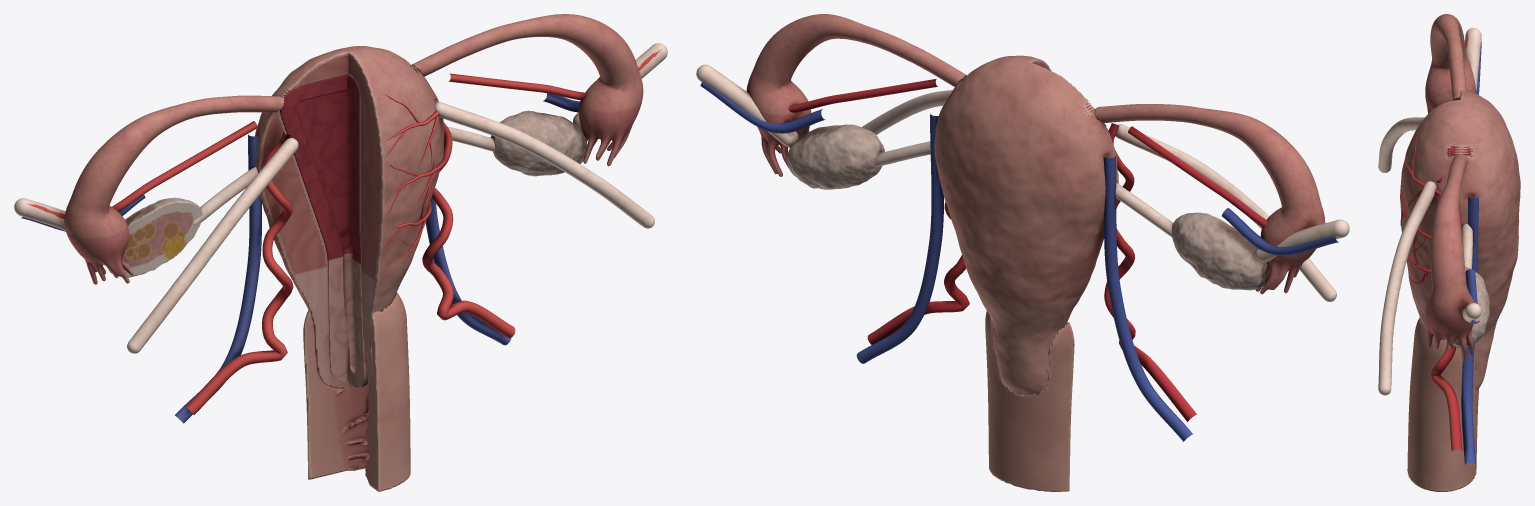
File: female-reproductive.35d5b7ac.glb
3 views of the same model, side by side, from view 1: azimuth 30°, elevation 25°; view 2: azimuth 150°, elevation 25°; view 3: azimuth 270°, elevation 25° (orthographic). The views are drawn at different scales.
Visible parts, largest first — view 1: Myometrium, Uterine tubes, Endometrium, Vagina, Uterine and ovarian arteries, Supporting ligaments, Ovaries, Uterine and ovarian veins; view 2: Myometrium, Uterine tubes, Vagina, Ovaries, Uterine and ovarian veins, Supporting ligaments, Uterine and ovarian arteries; view 3: Myometrium, Uterine tubes, Vagina, Supporting ligaments, Uterine and ovarian veins, Uterine and ovarian arteries, Ovaries, Endometrium.
Part boxes in pixels (left/top/right/bottom): Myometrium: left=254, top=46, right=444, bottom=391; Uterine tubes: left=64, top=14, right=643, bottom=284; Endometrium: left=280, top=66, right=417, bottom=388; Vagina: left=303, top=292, right=410, bottom=491; Uterine and ovarian arteries: left=27, top=49, right=661, bottom=414; Supporting ligaments: left=14, top=43, right=667, bottom=353; Ovaries: left=109, top=110, right=587, bottom=277; Uterine and ovarian veins: left=21, top=93, right=580, bottom=423; Myometrium: left=934, top=55, right=1118, bottom=394; Uterine tubes: left=746, top=14, right=1325, bottom=294; Vagina: left=985, top=311, right=1074, bottom=491; Ovaries: left=786, top=124, right=1267, bottom=290; Uterine and ovarian veins: left=700, top=81, right=1338, bottom=441; Supporting ligaments: left=696, top=64, right=1349, bottom=301; Uterine and ovarian arteries: left=788, top=78, right=1267, bottom=422; Myometrium: left=1400, top=90, right=1520, bottom=390; Uterine tubes: left=1425, top=14, right=1475, bottom=360; Vagina: left=1407, top=317, right=1478, bottom=491; Supporting ligaments: left=1378, top=28, right=1481, bottom=395; Uterine and ovarian veins: left=1461, top=41, right=1481, bottom=464; Uterine and ovarian arteries: left=1400, top=31, right=1468, bottom=451; Ovaries: left=1453, top=267, right=1489, bottom=348; Endometrium: left=1446, top=146, right=1472, bottom=157.
Bounding box in the file's own units: 4.06 × 2.5 × 0.8659.
